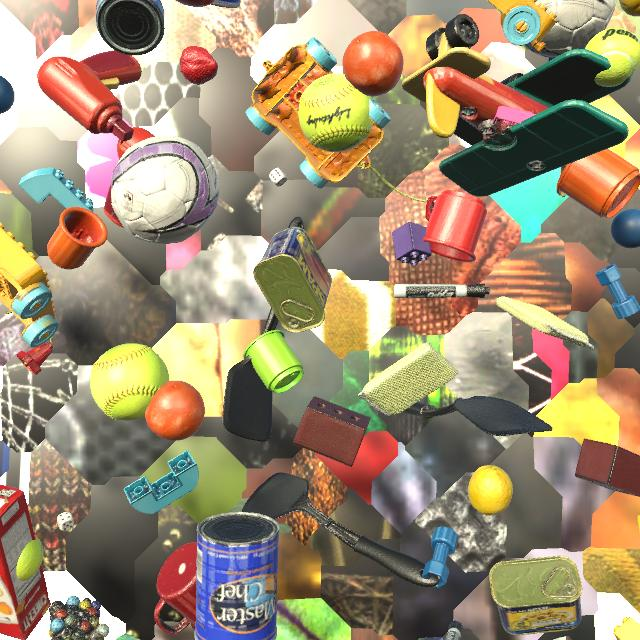ycb_002_master_chef_can: (194, 512, 280, 640), (210, 0, 241, 8)
ycb_003_cracker_box: (0, 484, 51, 640)
ycb_007_tuna_fish_can: (96, 0, 165, 56)
ycb_008_pudding_box: (553, 636, 571, 640)
ycb_010_potted_meat_can: (253, 227, 332, 333), (489, 556, 582, 636)
ycb_012_strawberry: (179, 46, 218, 85)
ycb_013_apple: (175, 0, 215, 7)
ycb_014_lemon: (468, 465, 513, 517)
ycb_015_peach: (619, 0, 640, 17)
ycb_017_orange: (342, 31, 403, 97), (145, 380, 205, 441)
